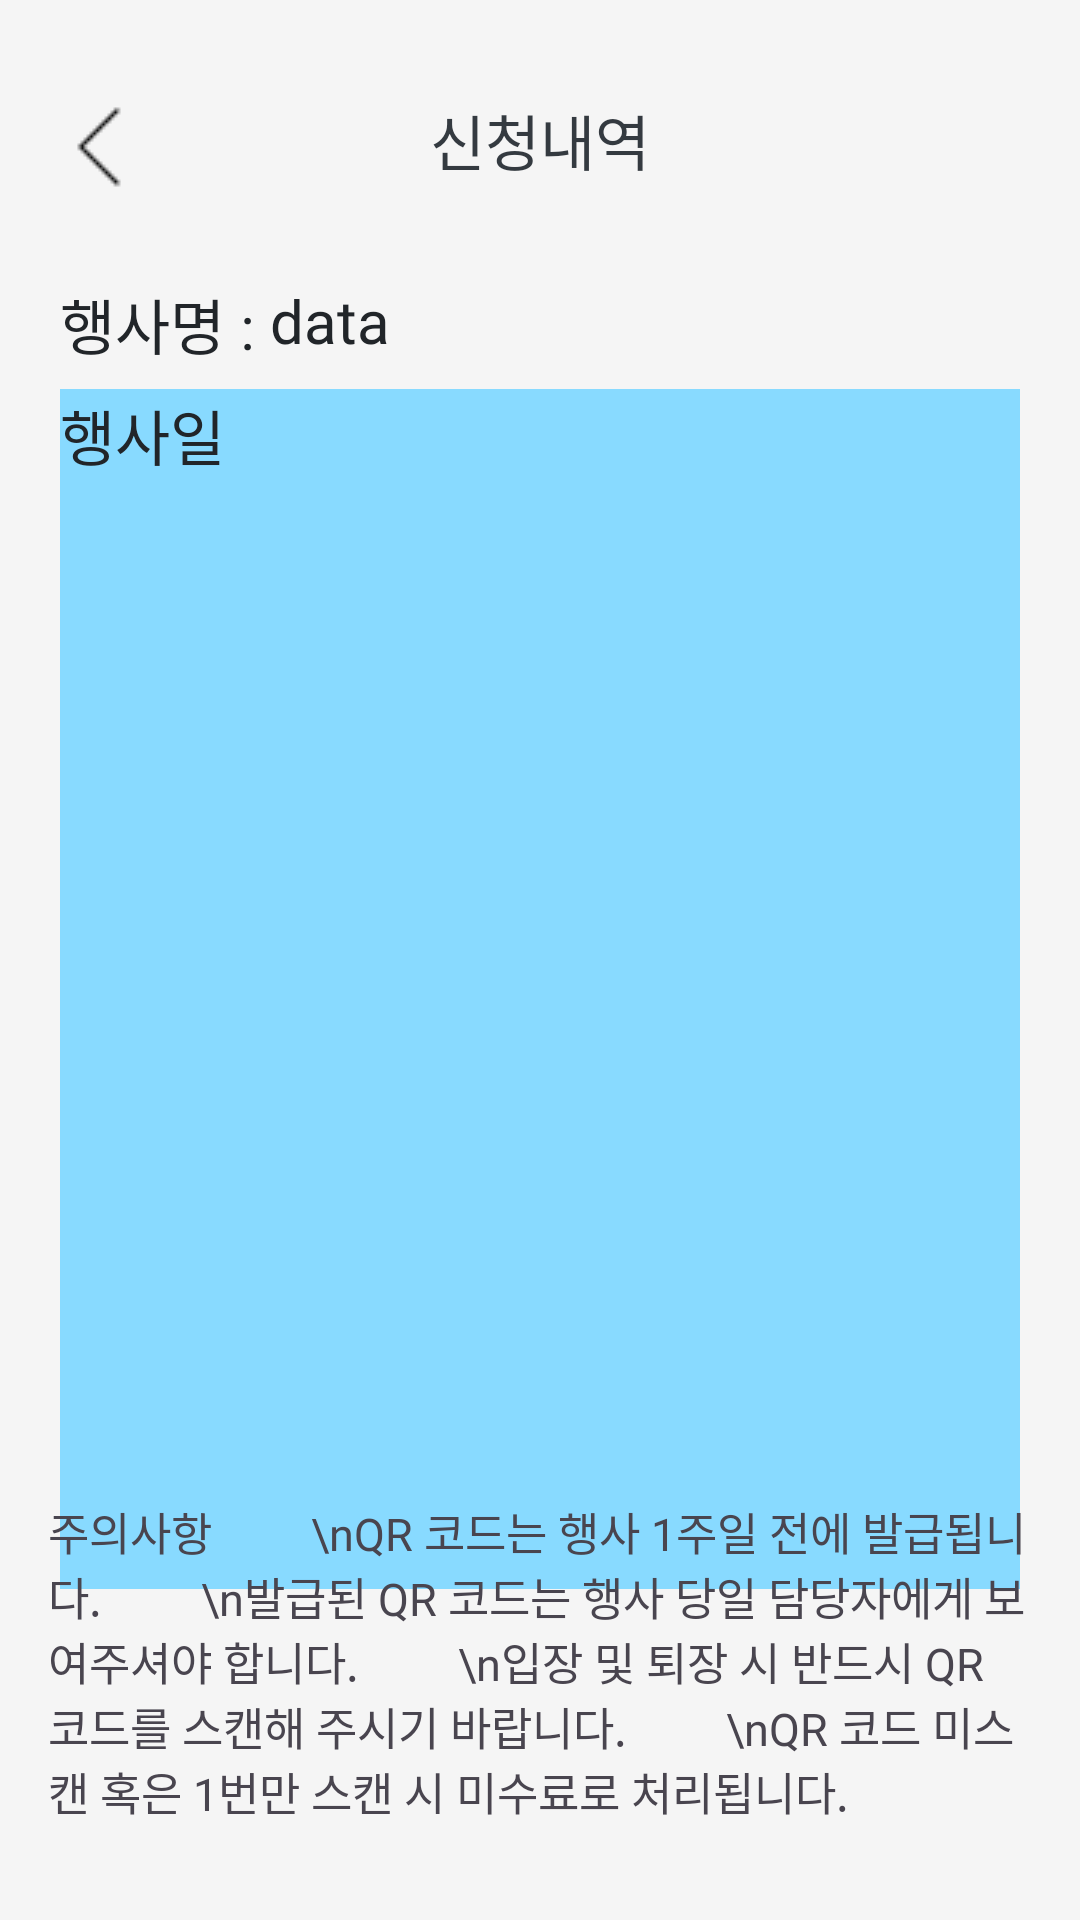

Named icons in this screenshot (1080px x 1920px) and their centers, [x,y]:
back: [99,147]
